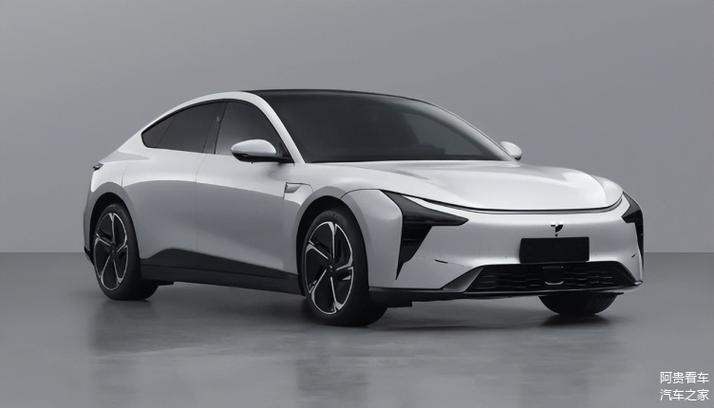汽车: (82, 74, 667, 339)
